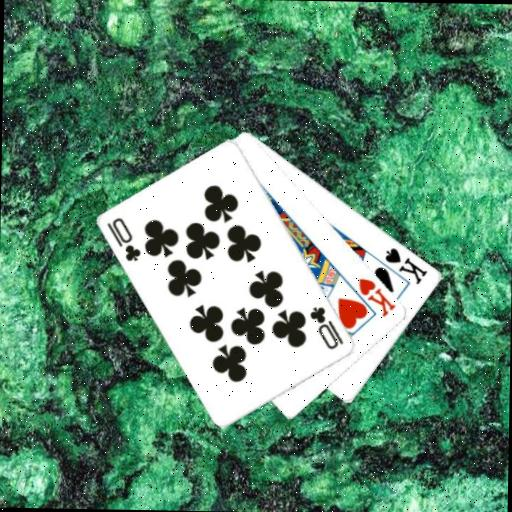10C: (104, 214, 144, 263), (307, 303, 347, 351)
KH: (356, 275, 399, 319)
KS: (382, 244, 430, 286)
